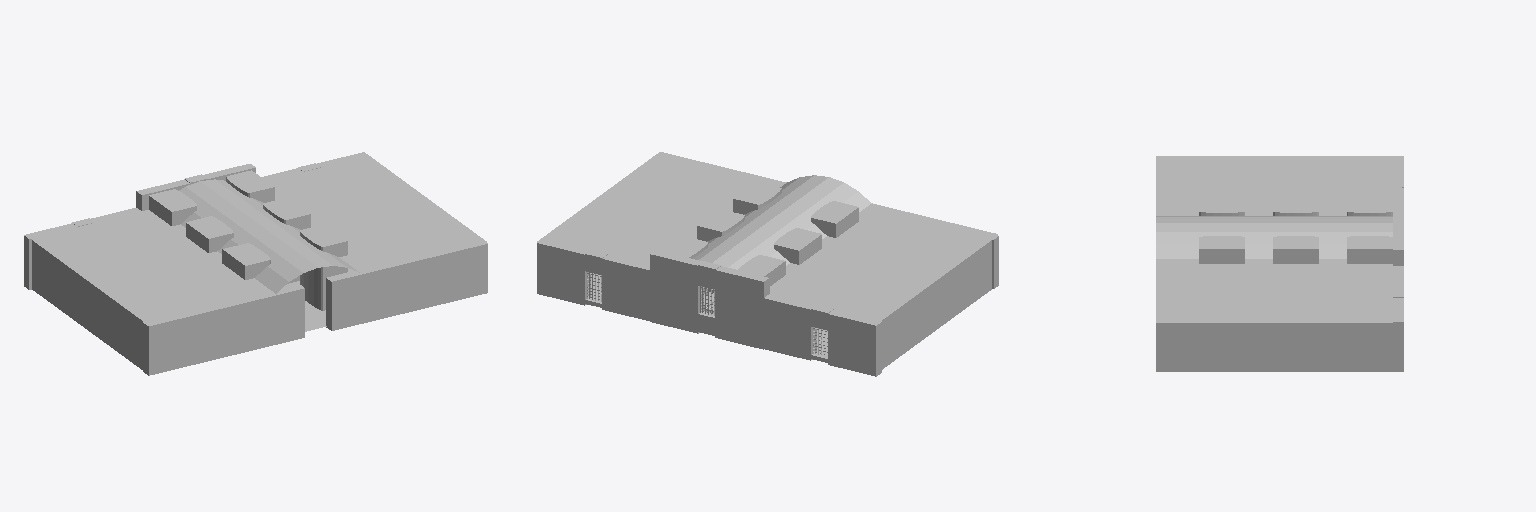
Rendered from hall.obj.
3 renders of one model, left to right at view 1: azimuth 30°, elevation 25°; view 2: azimuth 150°, elevation 25°; view 3: azimuth 270°, elevation 25°, orthographic.
Parts seen in each view (by area): view 1: Ceiling_Cylinder.001, Walls_South_Cube.013, Columns_Plane.008, Side_walls_Cube.008, Window_Wall_Center_Cube.001, Window_Wall_West_Cube.010, Floor_Plane; view 2: Ceiling_Cylinder.001, Window_Wall_Center_Cube.001, Window_Wall_West_Cube.010, Columns_Plane.008, Window_Wall_East_Cube.004, Side_walls_Cube.008; view 3: Ceiling_Cylinder.001, Side_walls_Cube.008, Columns_Plane.008, Window_Wall_Center_Cube.001, Window_Wall_East_Cube.004, Walls_South_Cube.013.
Boxes of the visible parts, box(x1,y1,x2,y2) form: Ceiling_Cylinder.001: box(27, 152, 486, 324); Walls_South_Cube.013: box(143, 243, 487, 375); Columns_Plane.008: box(149, 170, 347, 310); Side_walls_Cube.008: box(32, 240, 143, 369); Window_Wall_Center_Cube.001: box(136, 164, 255, 210); Window_Wall_West_Cube.010: box(24, 208, 133, 289); Floor_Plane: box(283, 268, 353, 331); Ceiling_Cylinder.001: box(537, 152, 997, 323); Window_Wall_Center_Cube.001: box(650, 250, 769, 349); Window_Wall_West_Cube.010: box(762, 298, 881, 376); Columns_Plane.008: box(662, 182, 858, 294); Window_Wall_East_Cube.004: box(537, 242, 650, 320); Side_walls_Cube.008: box(881, 240, 991, 369); Ceiling_Cylinder.001: box(1156, 156, 1401, 320); Side_walls_Cube.008: box(1167, 321, 1392, 371); Columns_Plane.008: box(1199, 199, 1392, 263); Window_Wall_Center_Cube.001: box(1393, 194, 1403, 265); Window_Wall_East_Cube.004: box(1393, 266, 1403, 371); Walls_South_Cube.013: box(1156, 321, 1166, 371).
Size of the model in its own units: 17.1 by 3.29 by 10.77.